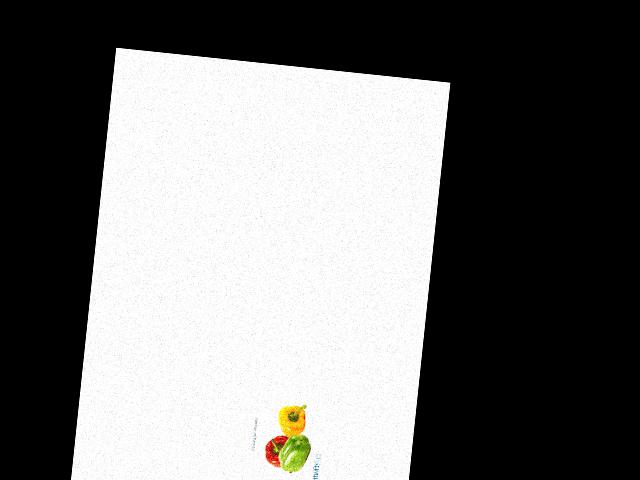bell_pepper: (277, 429, 315, 476)
